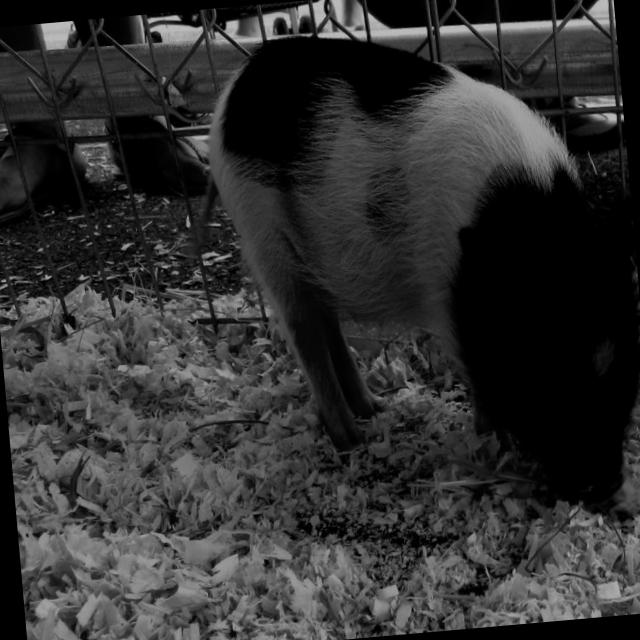pig: (197, 37, 640, 500)
